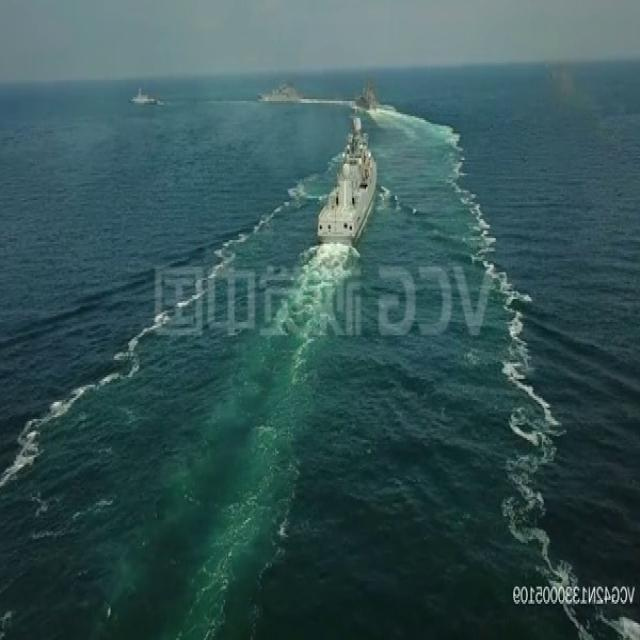navalvessels: (317, 114, 378, 236), (352, 77, 388, 114), (258, 78, 309, 104), (130, 83, 162, 111)
